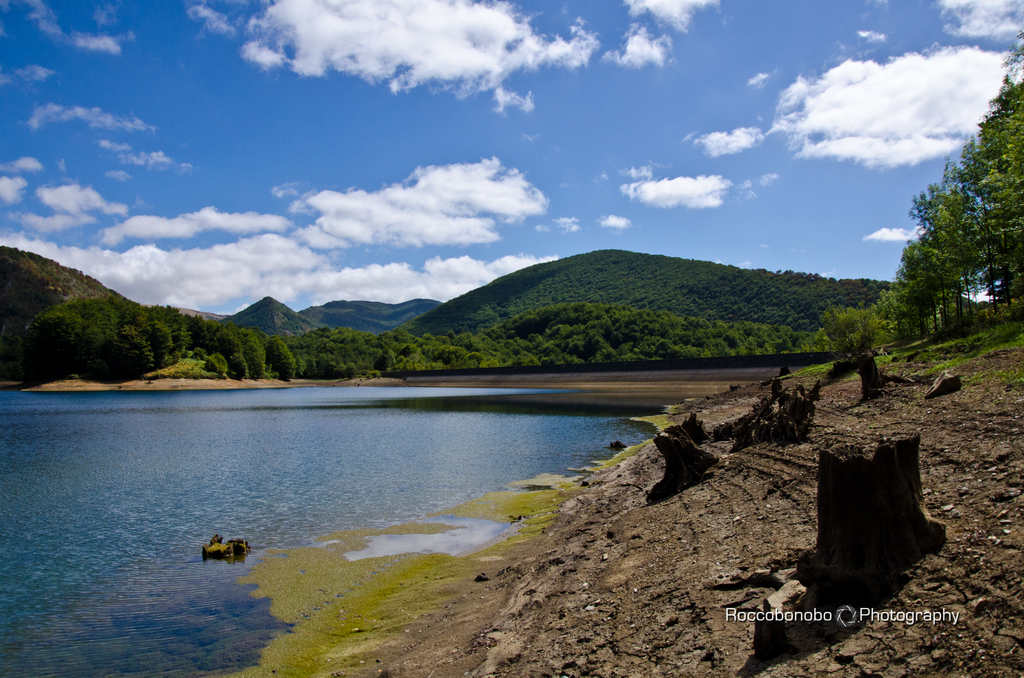Tree: (816, 33, 1020, 351), (304, 302, 818, 377), (22, 306, 102, 384), (818, 296, 885, 366), (101, 322, 153, 385), (69, 296, 115, 343), (141, 316, 172, 370), (268, 332, 297, 382), (236, 326, 262, 379), (209, 327, 246, 364)
